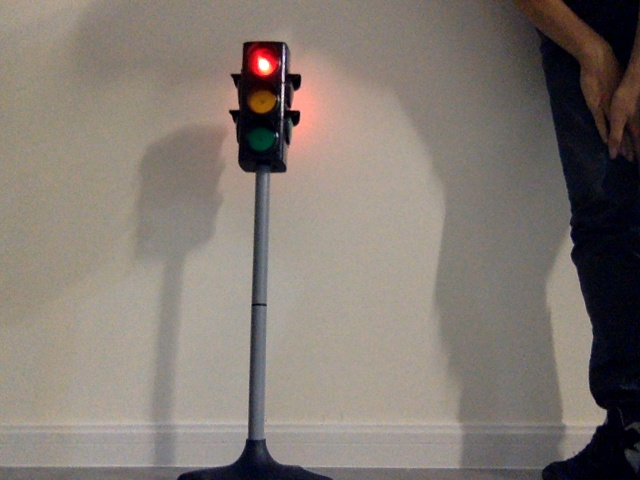red: (241, 44, 275, 157)
